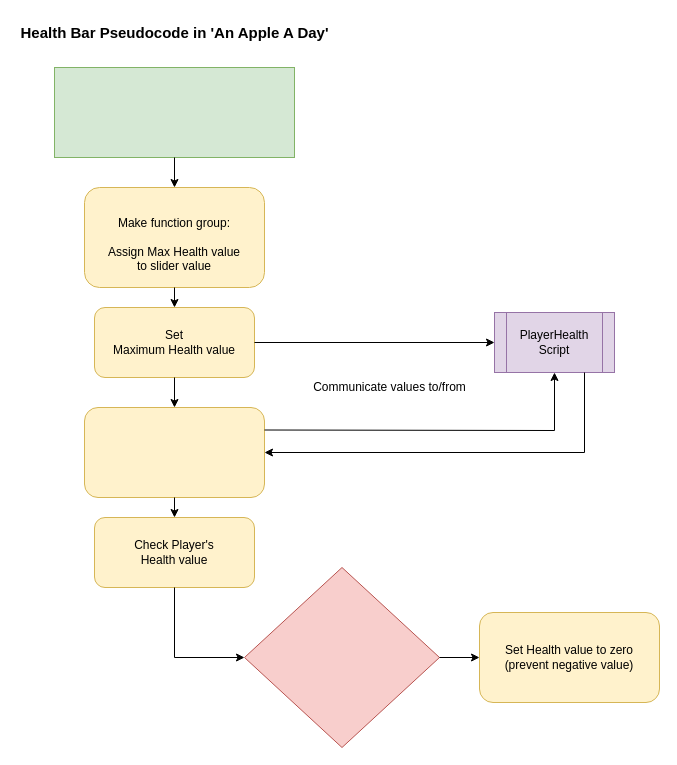
The diagram is 677 pixels wide and 765 high, and some of its shapes have lost their labels. Here are the shapes that lost their labels. From the top down, the centre of each, then its label:
At (174,112): "Get UI Slider component".
At (174,452): "Assign Player's (current) Health value to Slider object".
At (342,657): "If Player's Health value becomes falls to (or below) zero".
